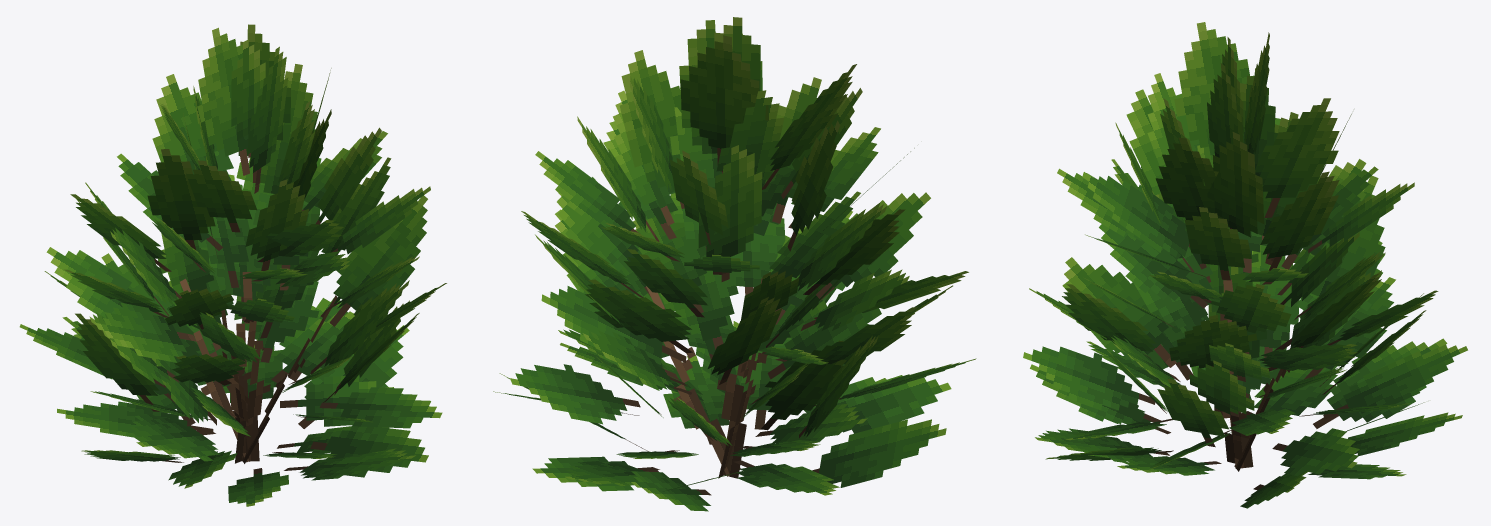
File: green_leafy_bush_large.glb
The picture shows the model from 3 angles, left to right: view 1: azimuth 30°, elevation 25°; view 2: azimuth 150°, elevation 25°; view 3: azimuth 270°, elevation 25°; orthographic projection. The views are drawn at different scales.
Parts seen in each view (by area): view 1: green_leafy_bush_large; view 2: green_leafy_bush_large; view 3: green_leafy_bush_large.
Boxes of the visible parts, x1,y1,x2,y2 form: green_leafy_bush_large: (19, 24, 446, 506); green_leafy_bush_large: (493, 17, 976, 511); green_leafy_bush_large: (1023, 22, 1467, 508).
Size of the model in its own units: 1.62 by 1.68 by 1.63.
1 material, 1 textured.
